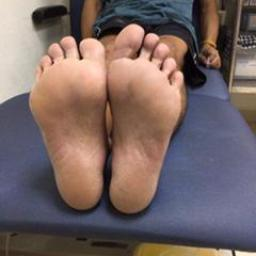Plantar View -Both Feet-: (26, 18, 200, 224)
